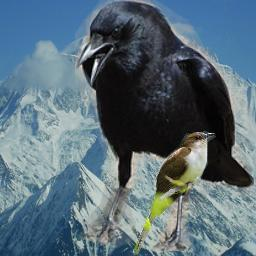Crow: (75, 0, 254, 251)
Cuckoo: (132, 131, 216, 255)
